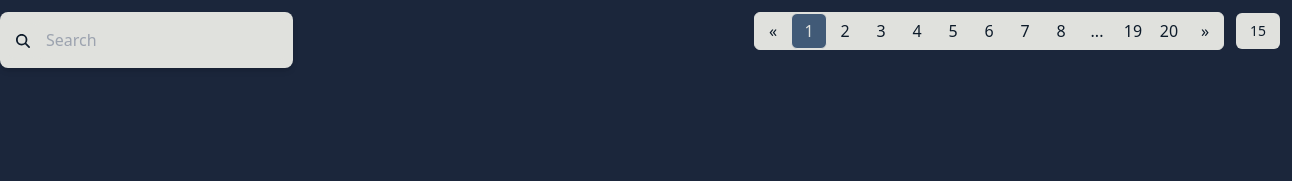
it: TableOptions › display's data from search area
Expected: the text "Cryptocurrencies" is not shown
Click the field with test id "search-input".
click(162, 40)  # box [38,20,285,60]
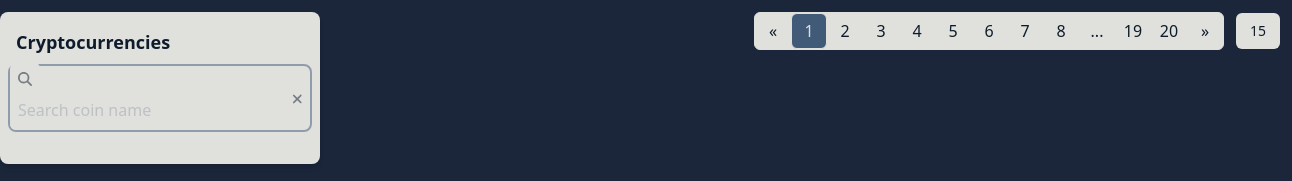
Result: the text "Cryptocurrencies" is shown at [16,30,170,54]
